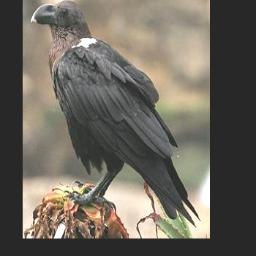Crow: (34, 0, 202, 227)
